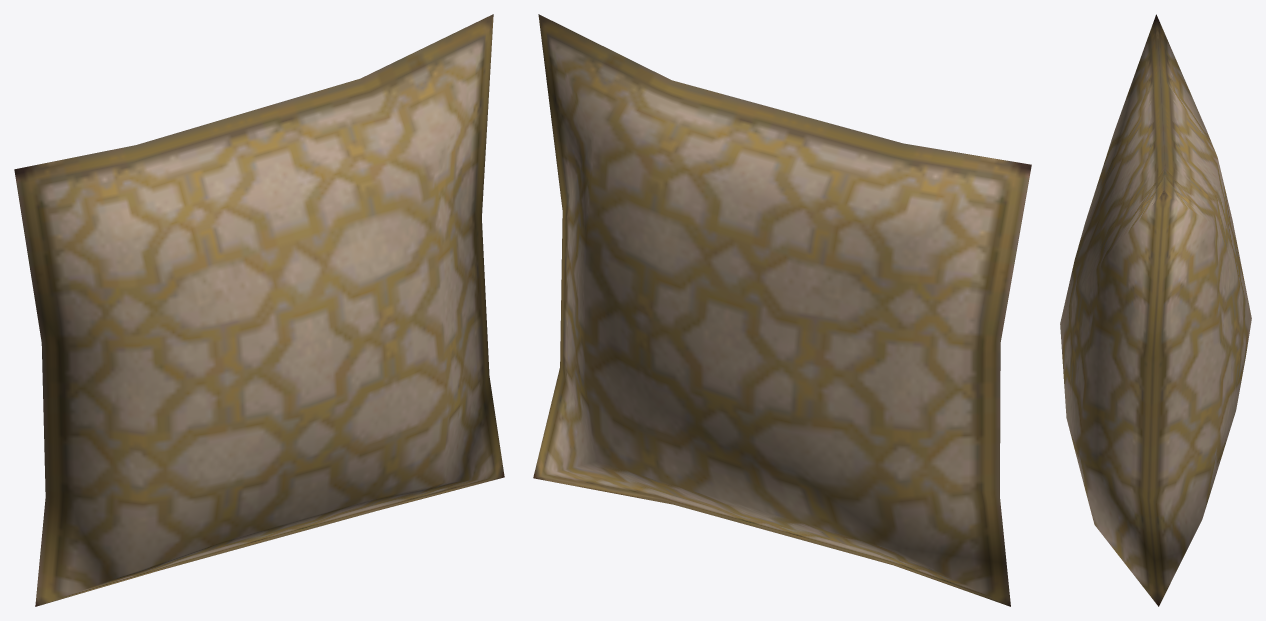
Rendered from nt2020_sofa_pillow_LOD0.obj.
The picture shows the model from 3 angles, left to right: view 1: azimuth 30°, elevation 25°; view 2: azimuth 150°, elevation 25°; view 3: azimuth 270°, elevation 25°; orthographic projection. The views are drawn at different scales.
Parts seen in each view (by area): view 1: mtl_dub_lounge_sofa_06_pillow; view 2: mtl_dub_lounge_sofa_06_pillow; view 3: mtl_dub_lounge_sofa_06_pillow.
Boxes of the visible parts, box(x1,y1,x2,y2) form: mtl_dub_lounge_sofa_06_pillow: box(14, 14, 504, 606); mtl_dub_lounge_sofa_06_pillow: box(533, 14, 1031, 606); mtl_dub_lounge_sofa_06_pillow: box(1060, 14, 1251, 606).
Bounding box in the file's own units: 52.21 × 48.37 × 19.89.
